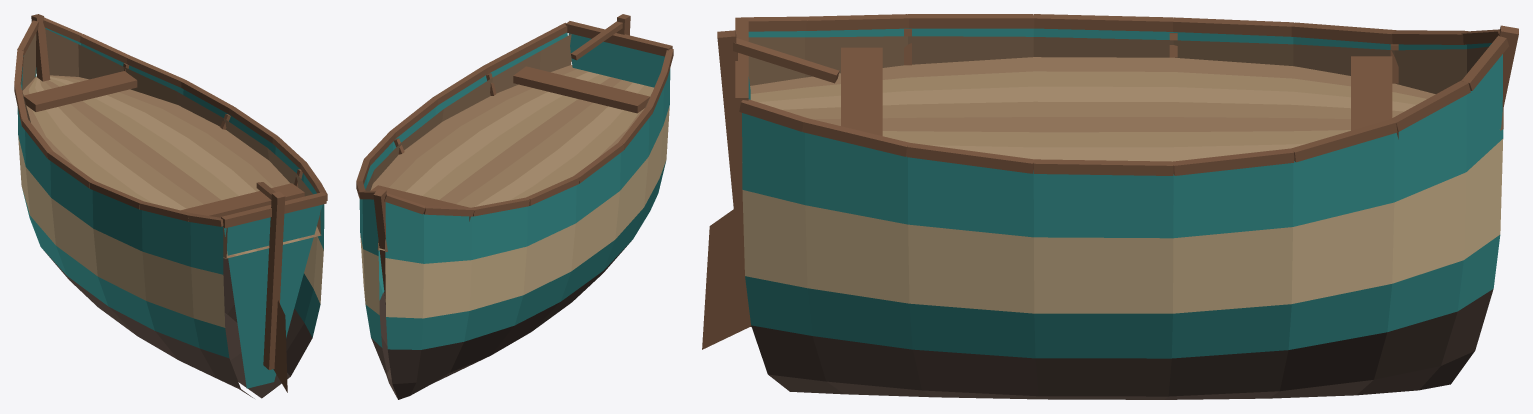
File: fishing_boat_teal.glb
3 views of the same model, side by side, from view 1: azimuth 30°, elevation 25°; view 2: azimuth 150°, elevation 25°; view 3: azimuth 270°, elevation 25° (orthographic). The views are drawn at different scales.
Parts seen in each view (by area): view 1: Painted strake, Oiled oak, Faded cream band, Tarred keel, Deck board 1, Inside oak, Deck board 3, Deck board 2, Deck board 0; view 2: Painted strake, Faded cream band, Oiled oak, Tarred keel, Deck board 1, Deck board 2, Deck board 3, Deck board 0, Inside oak; view 3: Painted strake, Faded cream band, Oiled oak, Tarred keel, Inside oak, Deck board 0, Deck board 1, Deck board 3, Deck board 2.
Part boxes in pixels (x1,y1,x2,y2): Painted strake: (17, 28, 324, 388); Oiled oak: (14, 14, 327, 392); Faded cream band: (18, 136, 323, 327); Tarred keel: (43, 250, 312, 398); Deck board 1: (22, 75, 321, 258); Inside oak: (22, 29, 320, 259); Deck board 3: (35, 77, 299, 253); Deck board 2: (39, 76, 310, 250); Deck board 0: (28, 77, 289, 255); Painted strake: (359, 32, 670, 349); Faded cream band: (360, 106, 669, 318); Oiled oak: (356, 14, 673, 304); Tarred keel: (371, 241, 631, 399); Deck board 1: (370, 65, 644, 249); Deck board 2: (378, 69, 632, 250); Deck board 3: (378, 71, 643, 250); Deck board 0: (381, 74, 653, 250); Inside oak: (365, 34, 651, 252); Painted strake: (742, 28, 1503, 358); Faded cream band: (742, 139, 1503, 313); Oiled oak: (702, 14, 1518, 349); Tarred keel: (751, 289, 1493, 399); Inside oak: (742, 36, 1503, 163); Deck board 0: (750, 71, 1426, 147); Deck board 1: (750, 57, 1435, 132); Deck board 3: (758, 86, 1416, 161); Deck board 2: (783, 101, 1403, 119).
Bounding box in the file's own units: 2.31 × 2.64 × 5.32.
